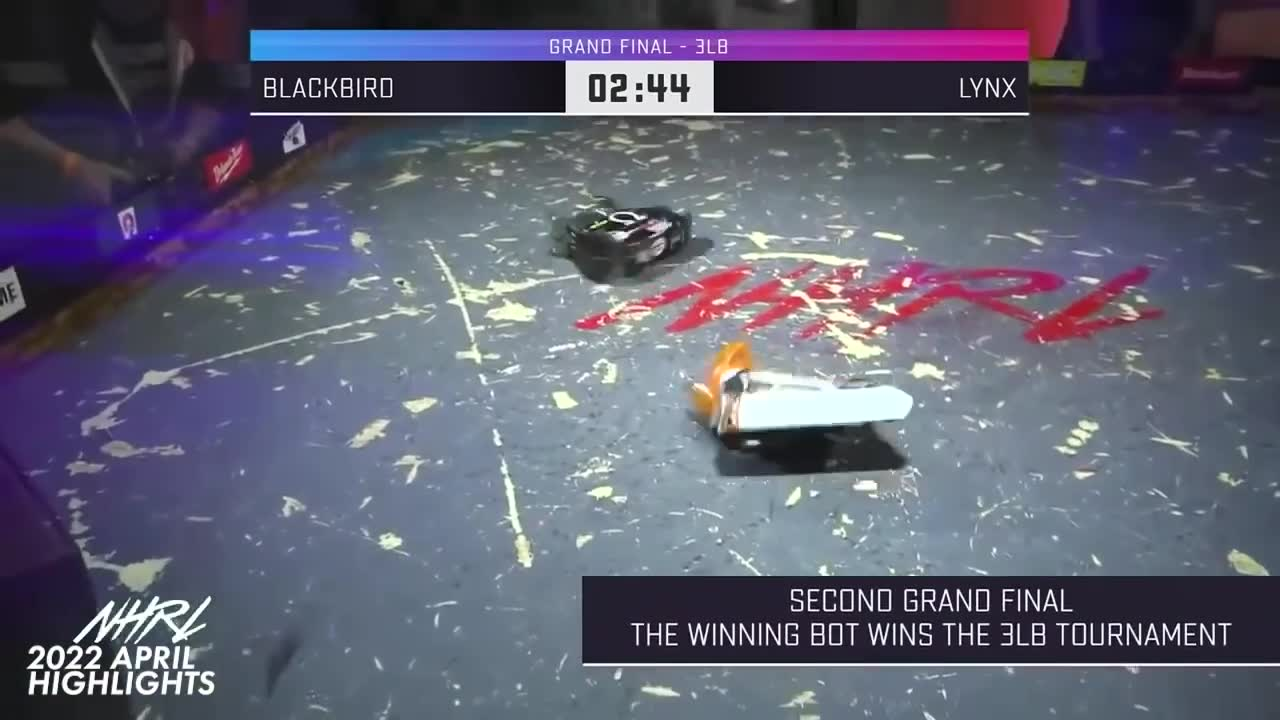combatbot: (685, 342, 908, 437), (563, 205, 694, 276)
debris: (575, 310, 611, 330)
